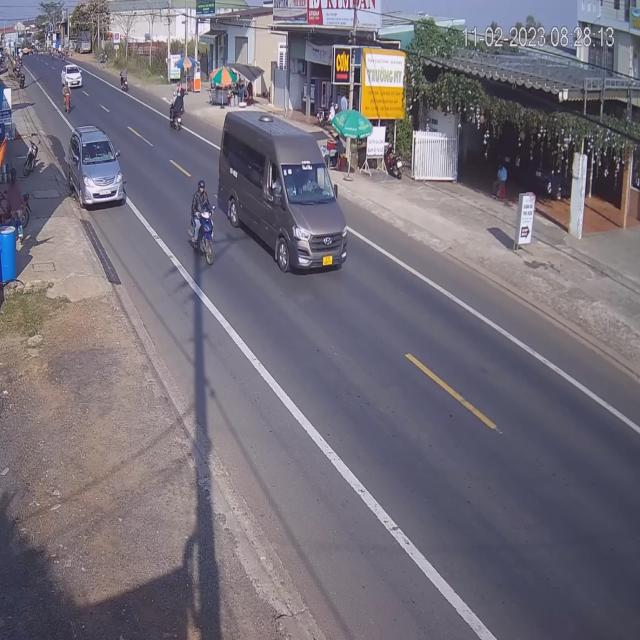bus: (218, 108, 350, 278)
car: (68, 124, 124, 208), (62, 64, 82, 90)
motorbike: (190, 180, 217, 267), (169, 90, 184, 131), (64, 88, 73, 115), (119, 69, 127, 93)
